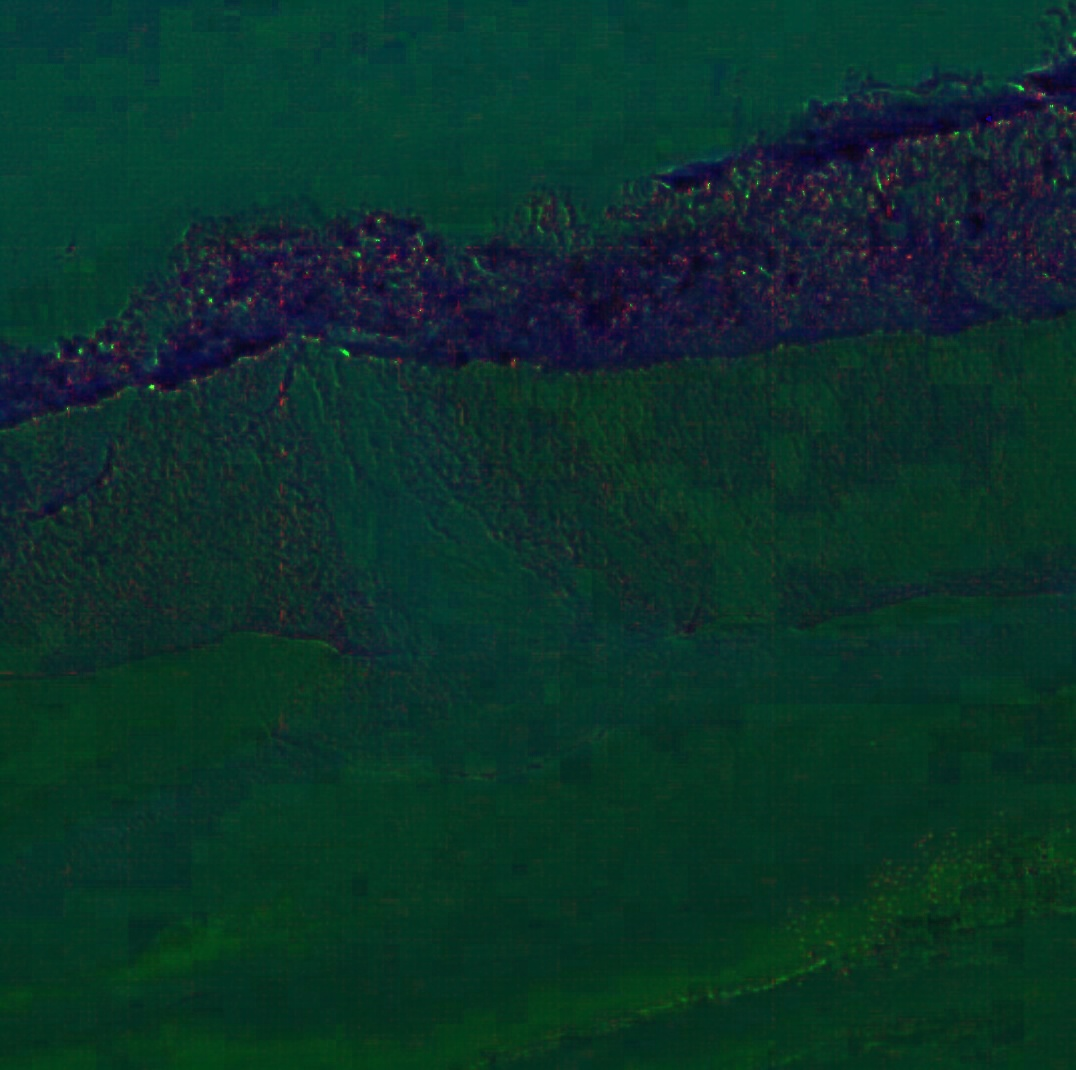rip_current: (190, 173, 541, 648)
